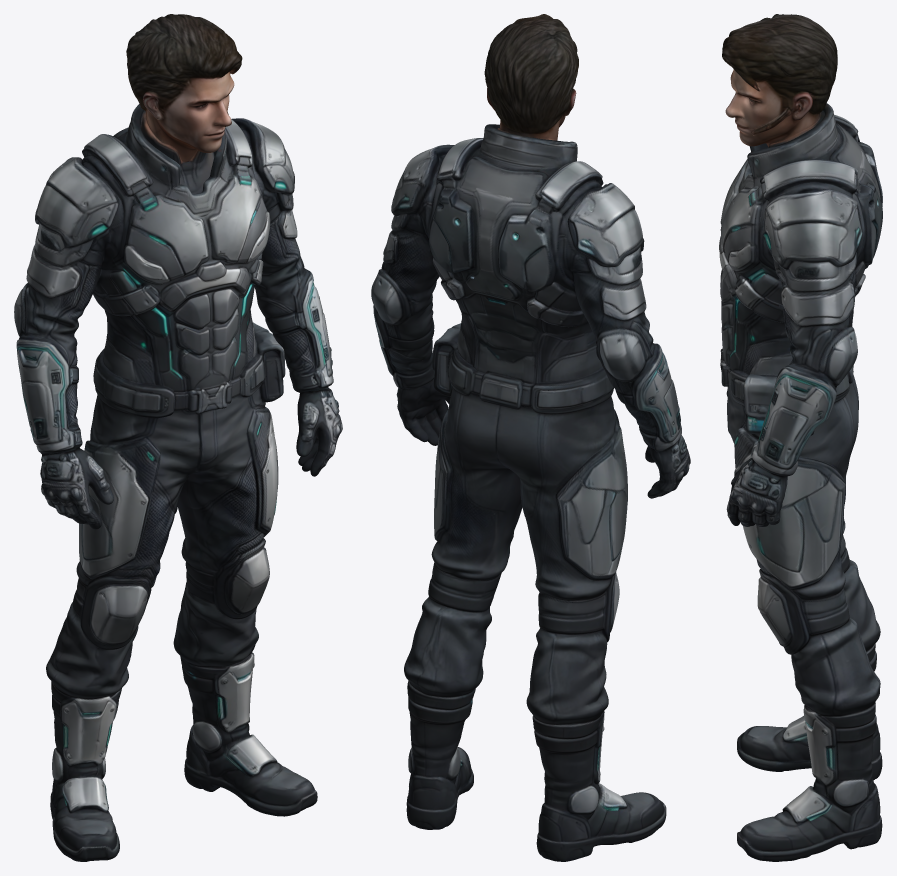
File: hero_human_tier_2_source.glb
3 renders of one model, left to right at view 1: azimuth 30°, elevation 25°; view 2: azimuth 150°, elevation 25°; view 3: azimuth 270°, elevation 25°, orthographic. The views are drawn at different scales.
Parts seen in each view (by area): view 1: tripo_node_ba91541d-ca35-46dc-9875-ab59082fdb59; view 2: tripo_node_ba91541d-ca35-46dc-9875-ab59082fdb59; view 3: tripo_node_ba91541d-ca35-46dc-9875-ab59082fdb59.
Boxes of the visible parts, bbox=[...] form: tripo_node_ba91541d-ca35-46dc-9875-ab59082fdb59: bbox=[14, 14, 342, 861]; tripo_node_ba91541d-ca35-46dc-9875-ab59082fdb59: bbox=[371, 14, 690, 861]; tripo_node_ba91541d-ca35-46dc-9875-ab59082fdb59: bbox=[719, 14, 882, 861].
Bounding box in the file's own units: 0.3827 × 1 × 0.1883.
Materials: 1 (1 with a texture image).
